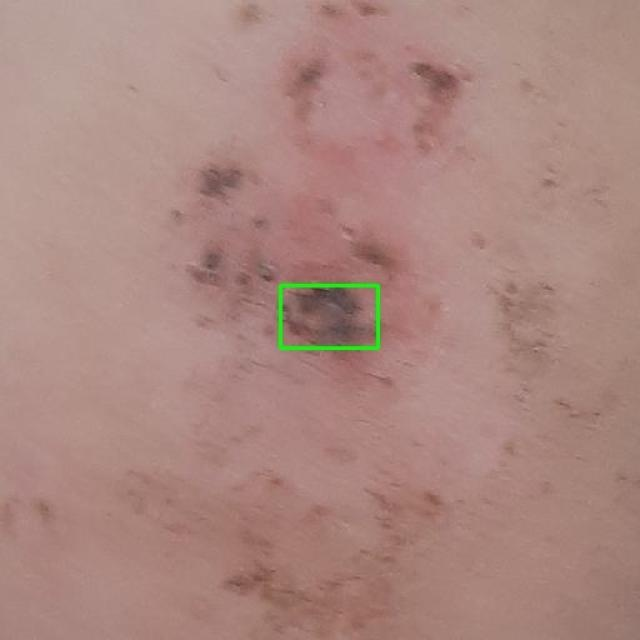Contact Dermatitis: (280, 285, 378, 348)
